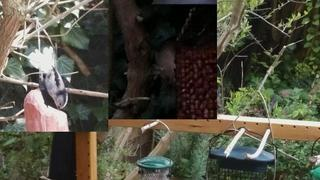long tailed tit: (45, 40, 68, 110)
mouse: (153, 40, 177, 86)
